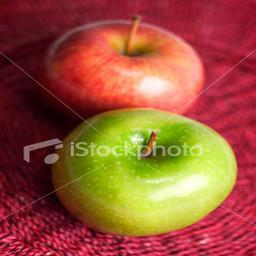apple: (52, 108, 237, 237), (43, 17, 203, 120)
